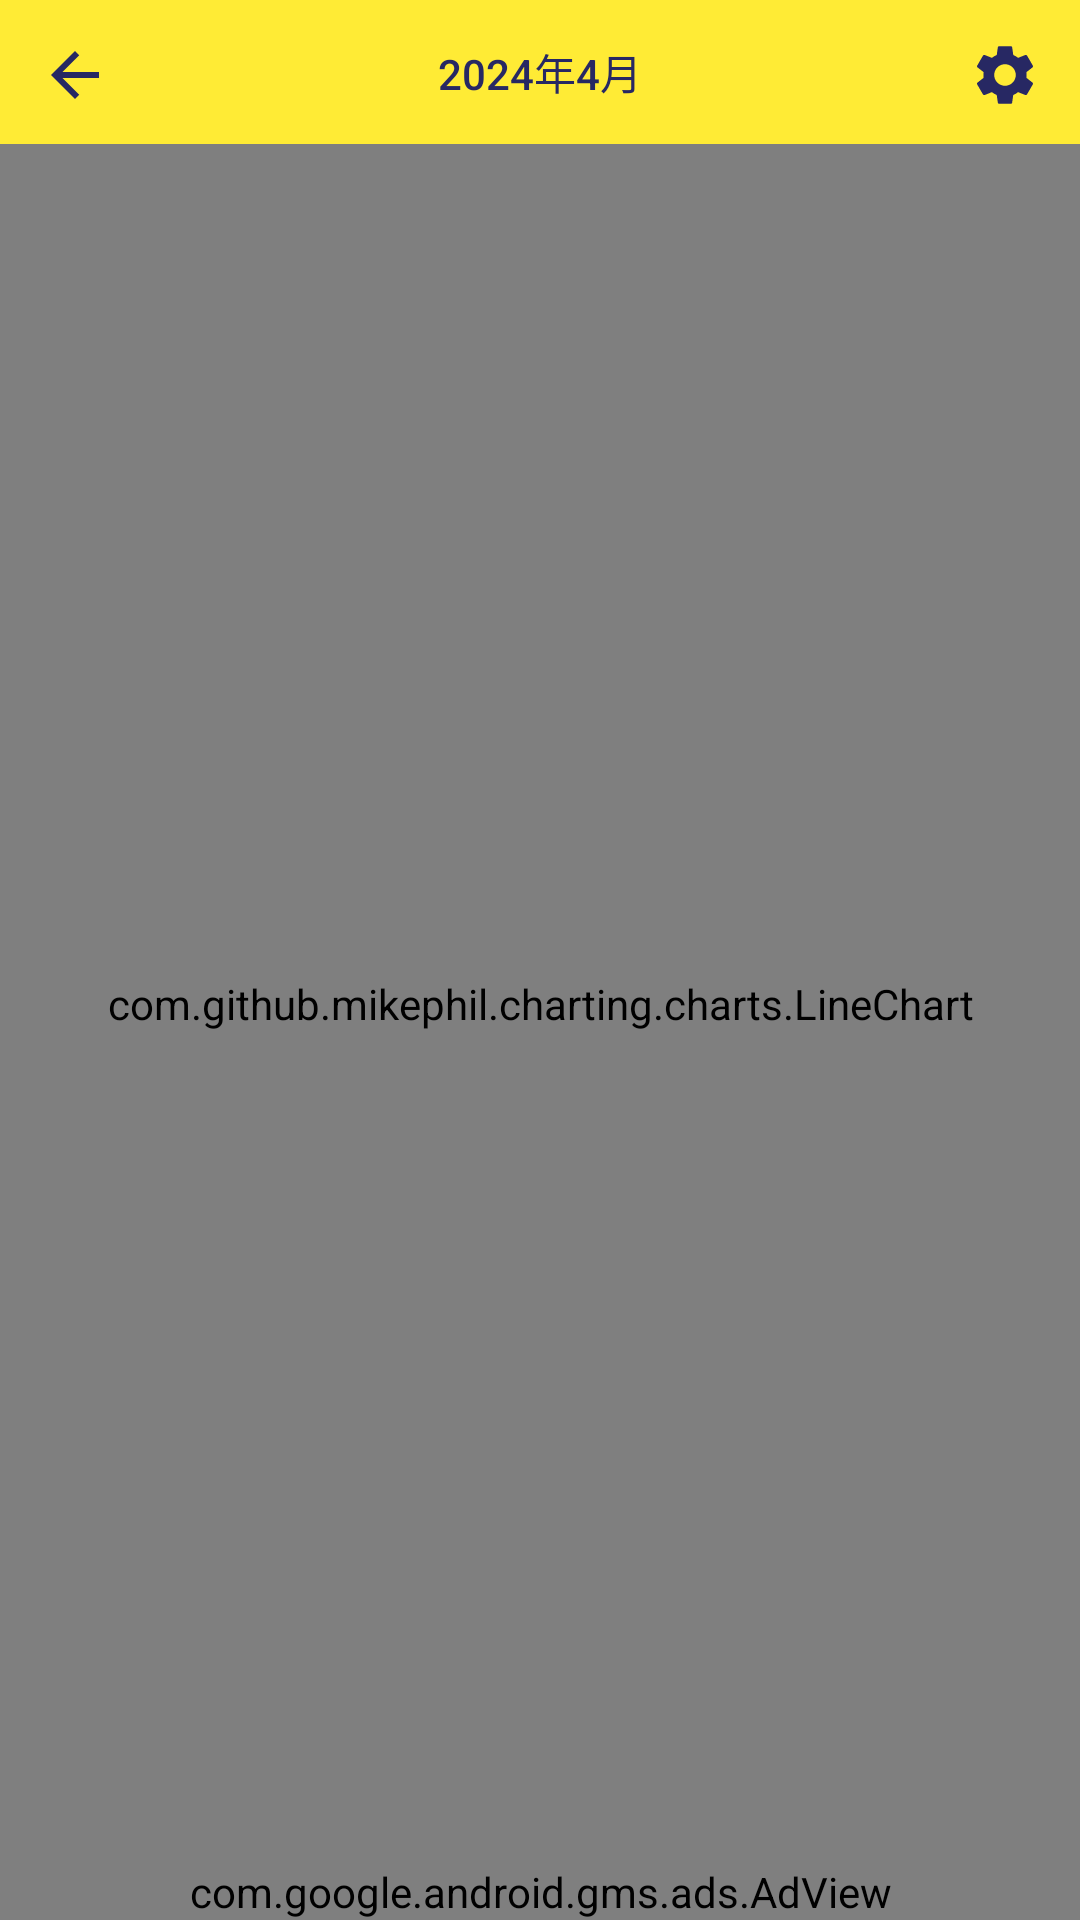

Screen size 1080x1920. Icon name, then its box in pixels as (x1, y1, x2, y2):
back: (51, 51, 99, 99)
settings: (977, 46, 1033, 104)
